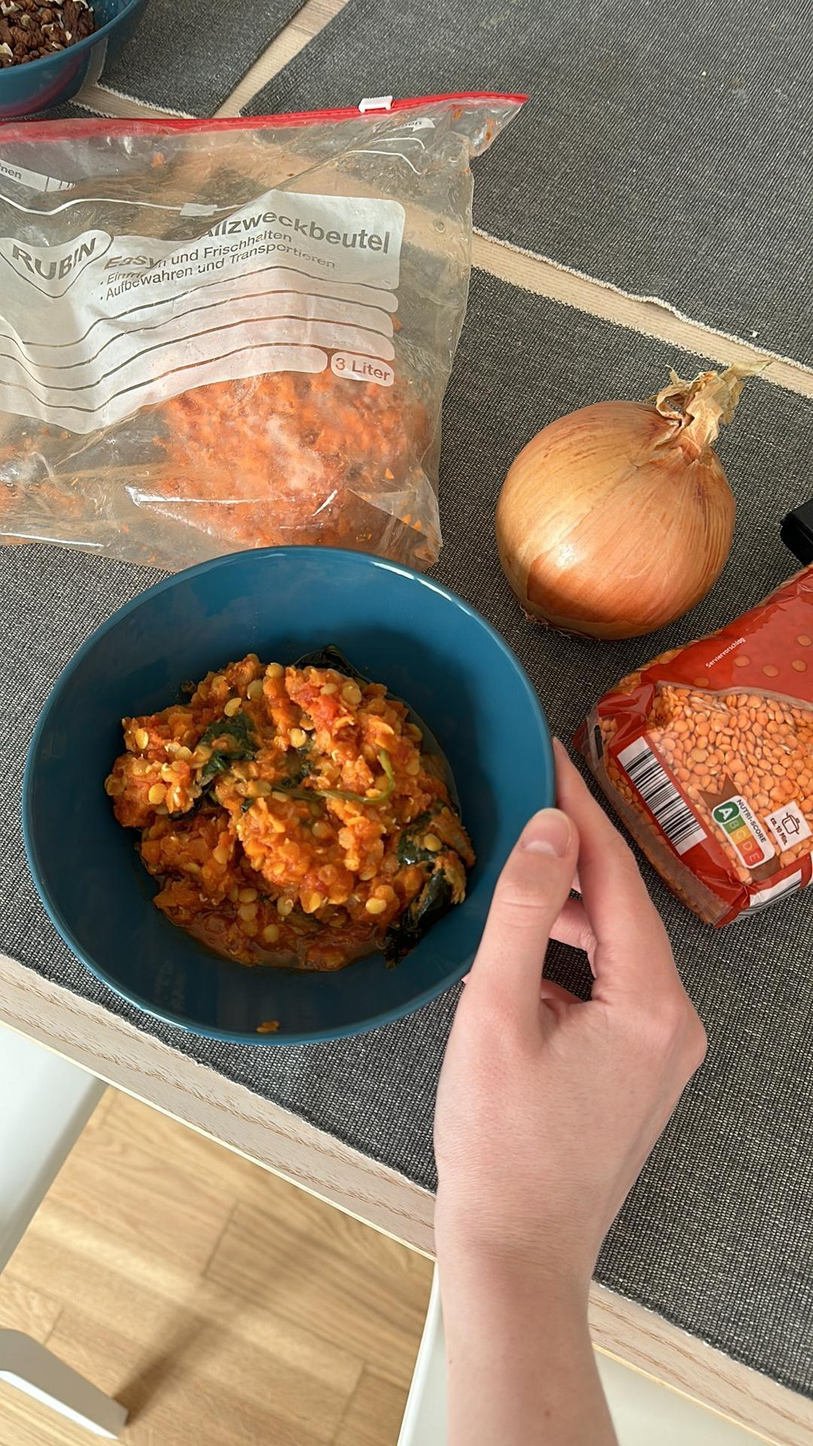lettuce: (291, 634, 490, 824), (382, 853, 468, 967), (277, 752, 394, 812), (193, 711, 264, 793)
onion: (479, 355, 799, 659)
